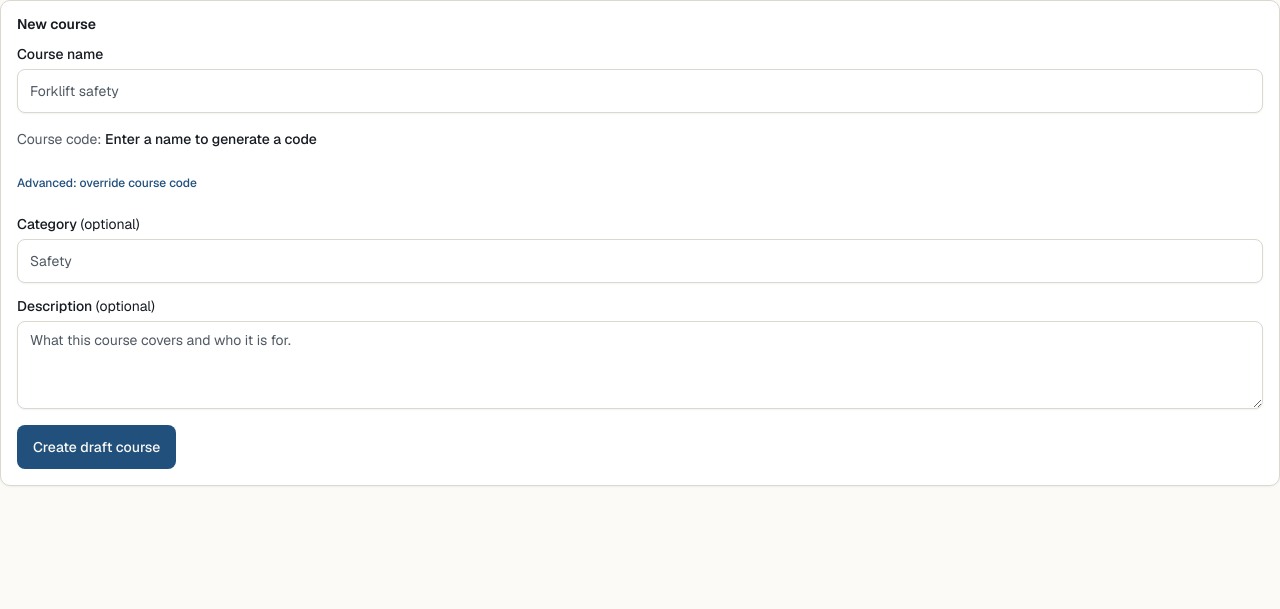
it: CourseCreateForm › previews a generated code and blocks duplicate custom codes
In the field with test id "training-course-name-input": (640, 91) left=17, top=69, right=1263, bottom=113, type "Forklift Safety"
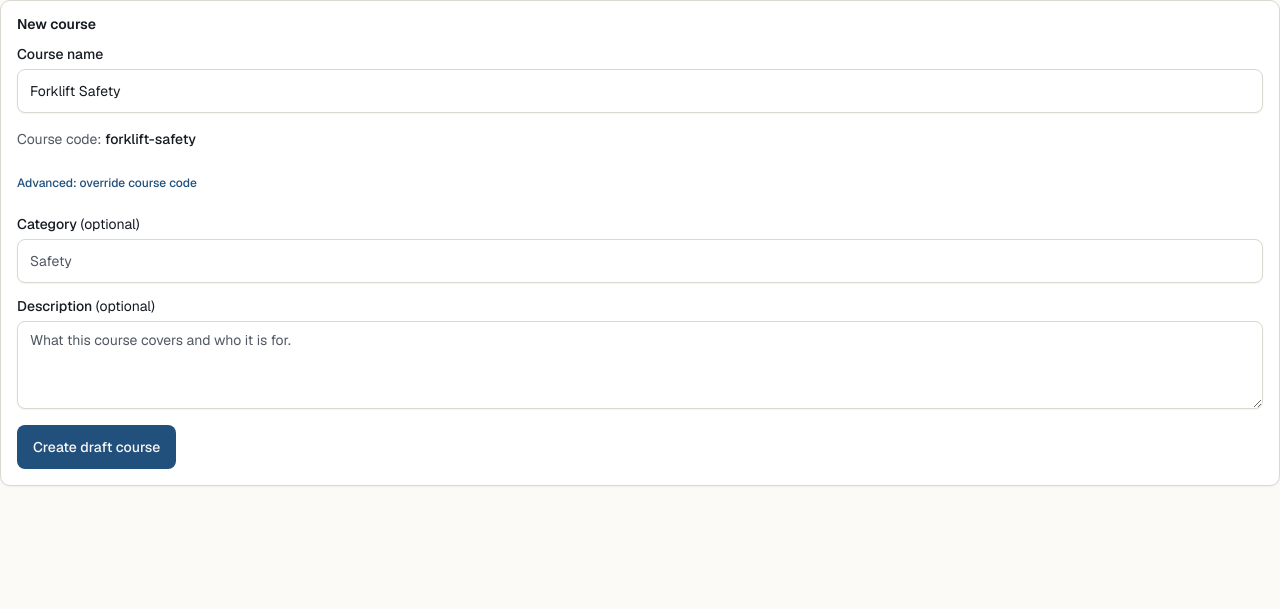
Check: the element with test id "training-course-auto-code-preview" shows "forklift-safety", box left=105, top=130, right=196, bottom=148
Click the button with test id "training-course-custom-code-toggle": (107, 183) left=17, top=165, right=197, bottom=201
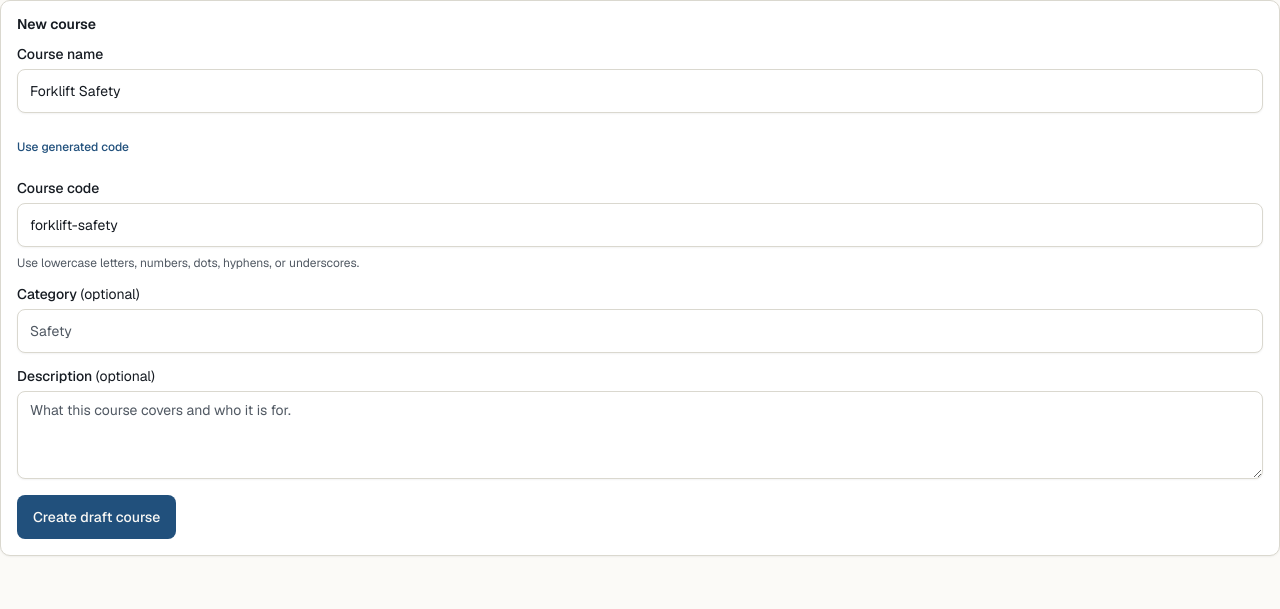
Replace the text in the field with test id "training-course-custom-code-input" with "lean-basic": (640, 225) left=17, top=203, right=1263, bottom=247
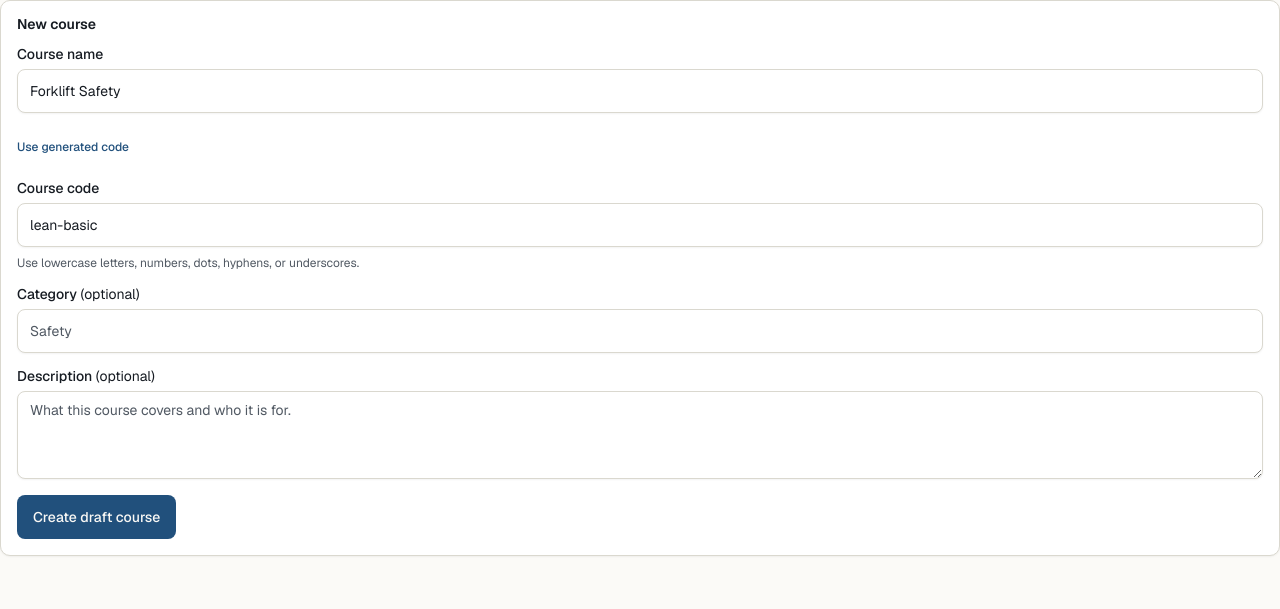
Submit the form with test id "training-course-create-form"
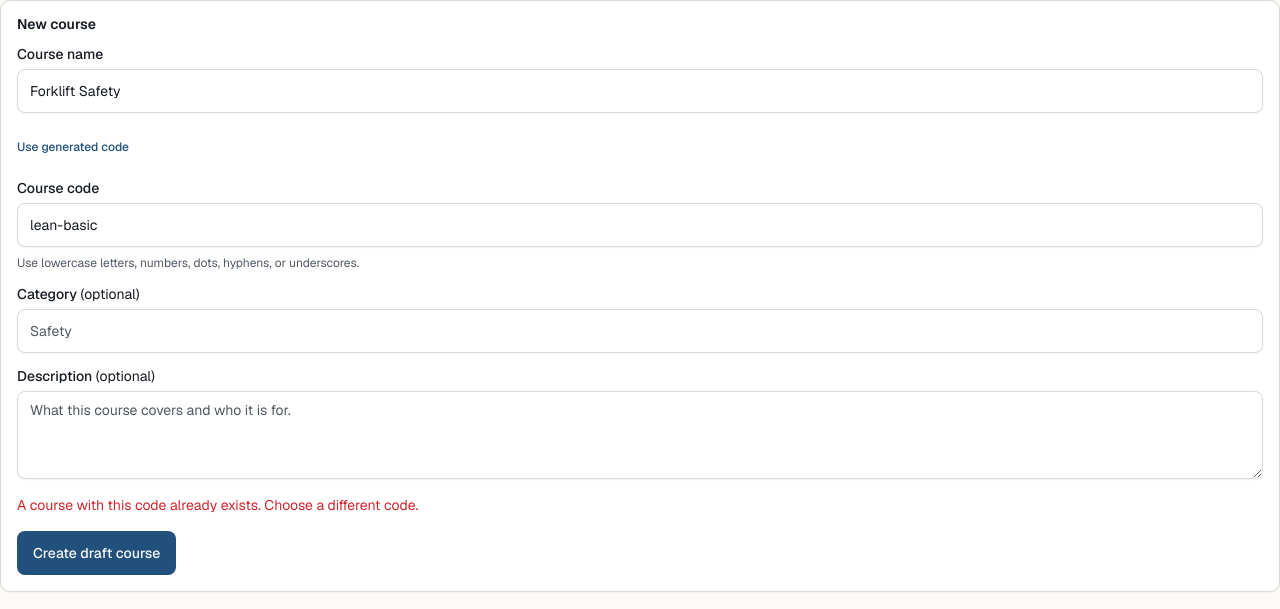
Check: the message with test id "training-course-create-error" shows "A course with this code already exists", box left=17, top=496, right=418, bottom=514
